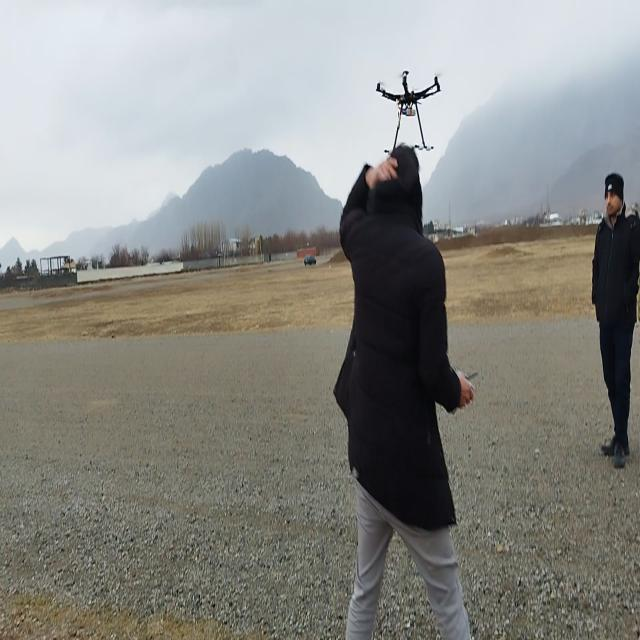drone: (376, 65, 446, 142)
